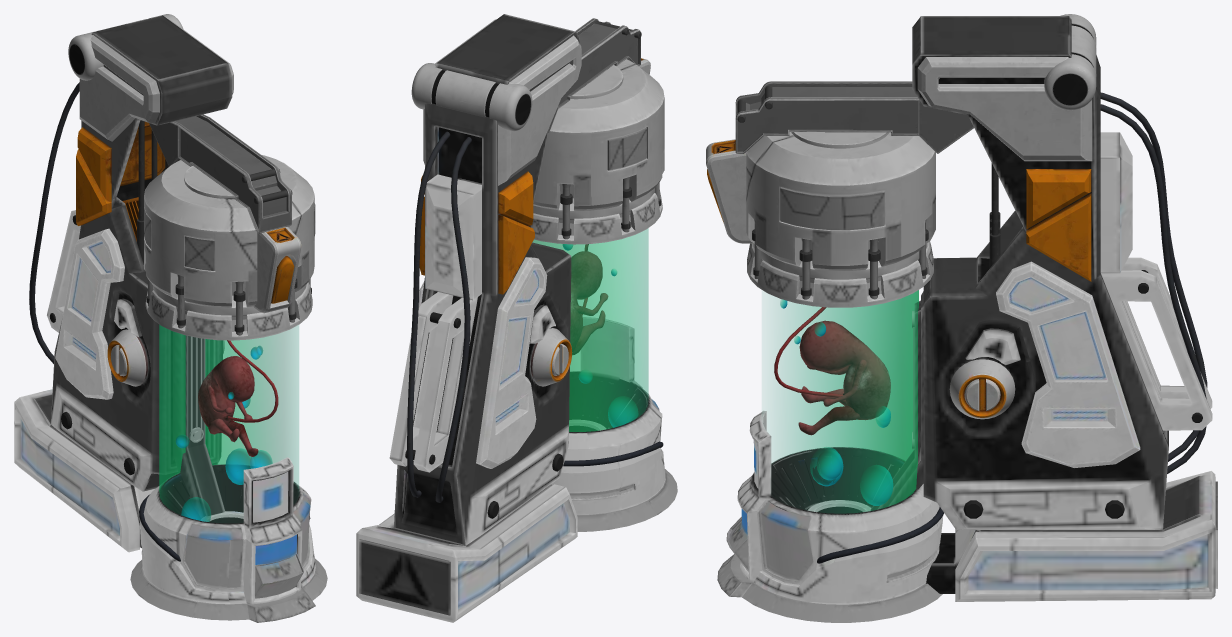
The model's file is stasis-capsule.glb.
The picture shows the model from 3 angles, left to right: view 1: azimuth 30°, elevation 25°; view 2: azimuth 150°, elevation 25°; view 3: azimuth 270°, elevation 25°; orthographic projection. The views are drawn at different scales.
Visible parts, largest first — view 1: defaultMaterial (×21); view 2: defaultMaterial (×16); view 3: defaultMaterial (×18).
Part boxes in pixels (x1,y1,x2,y2): defaultMaterial (×21): [14, 14, 327, 622]; defaultMaterial (×16): [356, 14, 677, 622]; defaultMaterial (×18): [706, 14, 1217, 622].
Bounding box in the file's own units: 0.6786 × 1.83 × 1.57.
Materials: 23 (21 with a texture image).
